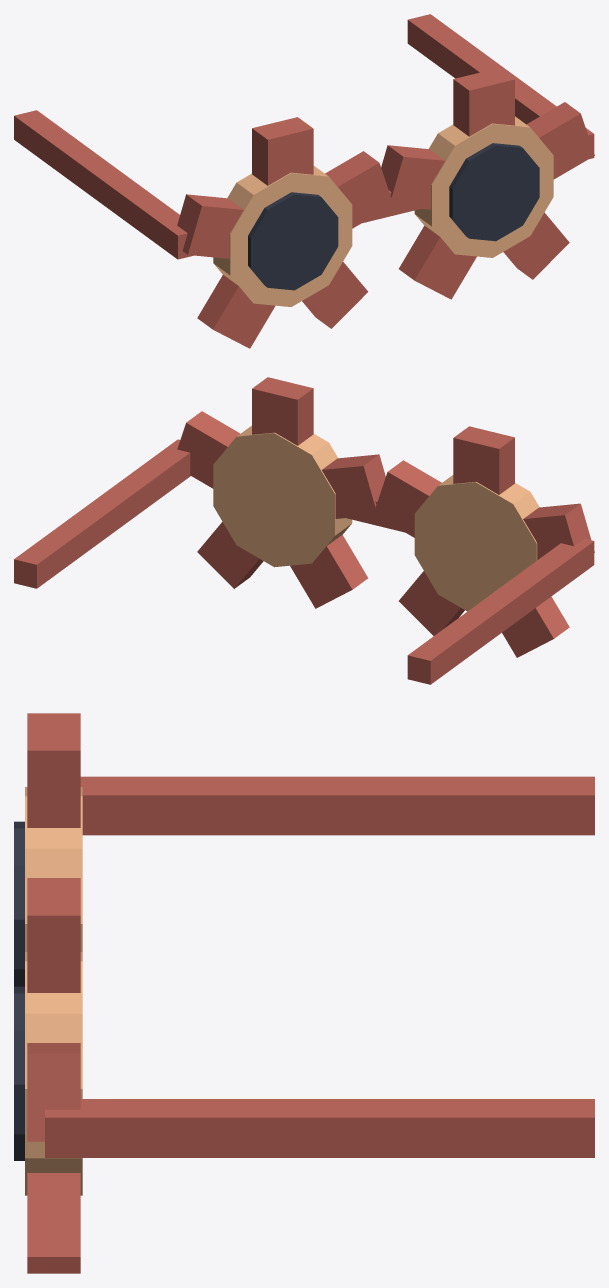
The model's file is CatCafe_Accessory_StarfishShades.glb.
3 views of the same model, one above another, from view 1: azimuth 30°, elevation 25°; view 2: azimuth 150°, elevation 25°; view 3: azimuth 270°, elevation 25° (orthographic). The views are drawn at different scales.
Visible parts, largest first — view 1: CatCafe_Accessory_StarfishShades; view 2: CatCafe_Accessory_StarfishShades; view 3: CatCafe_Accessory_StarfishShades.
Boxes of the visible parts, left/top/right/bottom form: CatCafe_Accessory_StarfishShades: left=14, top=14, right=594, bottom=348; CatCafe_Accessory_StarfishShades: left=14, top=377, right=594, bottom=684; CatCafe_Accessory_StarfishShades: left=14, top=713, right=594, bottom=1273.
Bounding box in the file's own units: 0.91 × 0.4274 × 0.655.
Materials: 1 (1 with a texture image).
